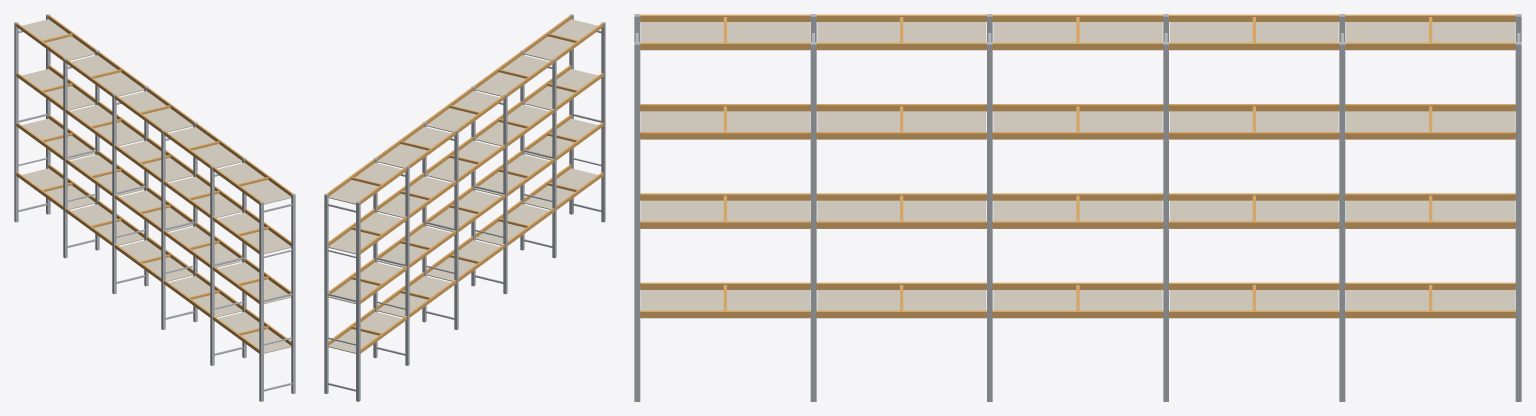
The picture shows the model from 3 angles, left to right: view 1: azimuth 30°, elevation 25°; view 2: azimuth 150°, elevation 25°; view 3: azimuth 270°, elevation 25°; orthographic projection. The views are drawn at different scales.
Parts seen in each view (by area): view 1: decks, beams, uprights; view 2: decks, beams, uprights; view 3: decks, beams, uprights.
Part boxes in pixels (x1,y1,x2,y2): decks: [22, 19, 291, 353]; beams: [16, 15, 292, 353]; uprights: [14, 14, 295, 401]; decks: [328, 19, 597, 353]; beams: [327, 15, 603, 353]; uprights: [324, 14, 605, 401]; decks: [641, 22, 1514, 318]; beams: [640, 14, 1515, 317]; uprights: [634, 14, 1521, 401].
Bounding box in the file's own units: 1.1 × 6 × 13.5.
